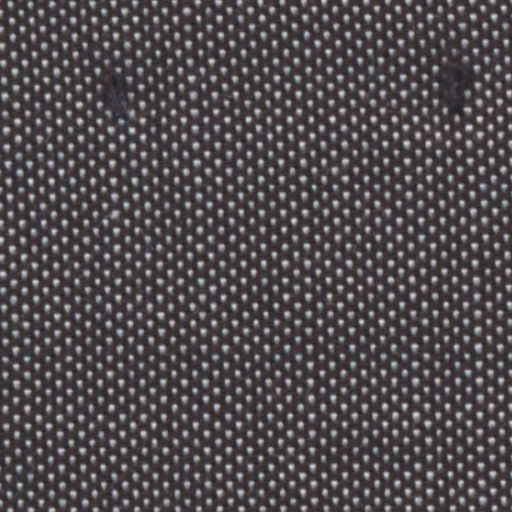MianQiu: (84, 58, 146, 123), (432, 42, 481, 122)
